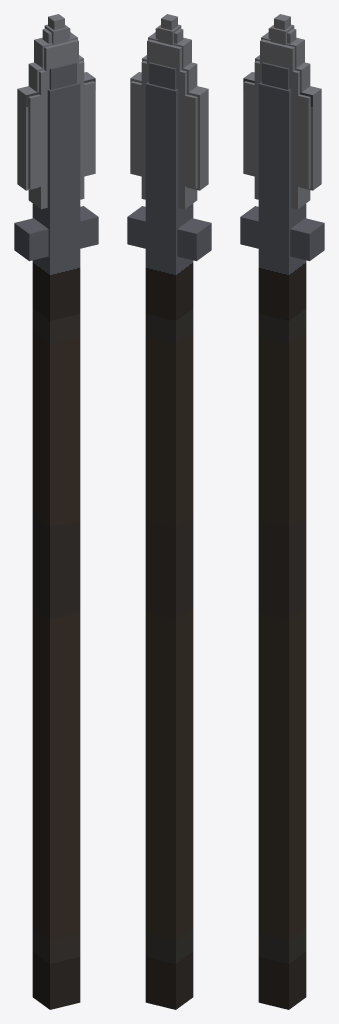
Rendered from winged_spear.obj.
3 views of the same model, side by side, from view 1: azimuth 30°, elevation 25°; view 2: azimuth 150°, elevation 25°; view 3: azimuth 330°, elevation 25° (orthographic).
Parts seen in each view (by area): view 1: cube; view 2: cube; view 3: cube.
Boxes of the visible parts, x1,y1,x2,y2 form: cube: (14, 14, 98, 1009); cube: (127, 14, 211, 1009); cube: (240, 14, 324, 1009).
Bounding box in the file's own units: 0.2 × 2.7 × 0.0875.
